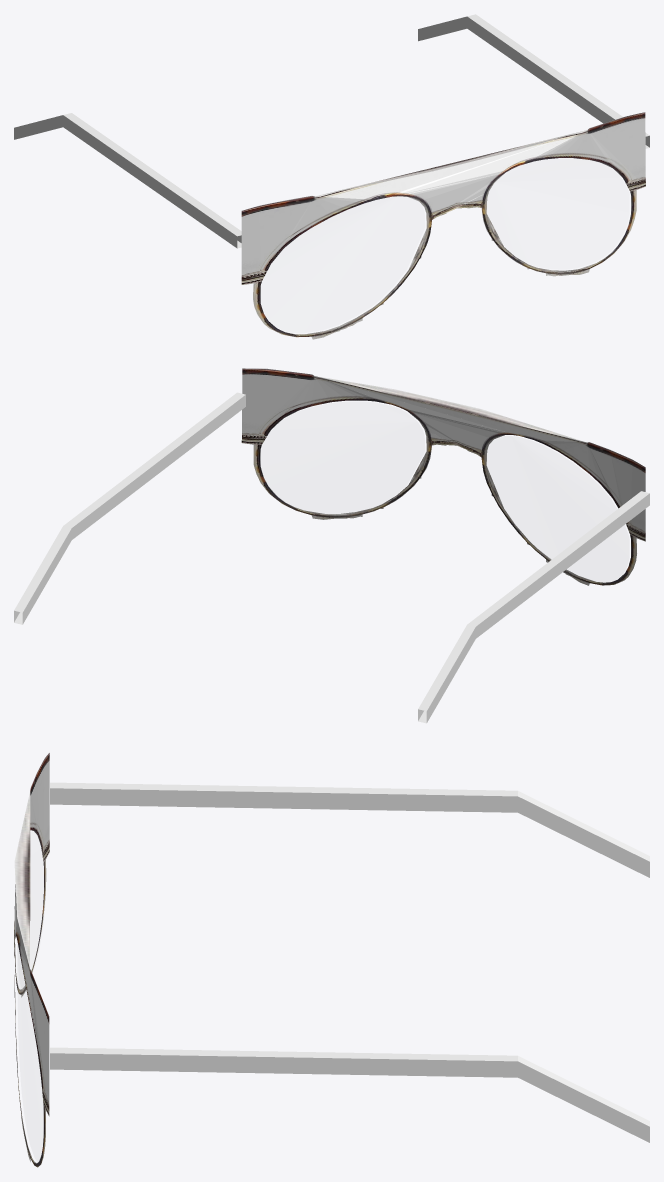
Rendered from trend-spotter-supreme-6_gold-tortoise.glb.
The picture shows the model from 3 angles, top to bottom: view 1: azimuth 30°, elevation 25°; view 2: azimuth 150°, elevation 25°; view 3: azimuth 270°, elevation 25°; orthographic projection. The views are drawn at different scales.
Visible parts, largest first — view 1: frame_front, temple_viewer_left, temple_viewer_right; view 2: frame_front, temple_viewer_right, temple_viewer_left; view 3: temple_viewer_left, temple_viewer_right, frame_front.
Part boxes in pixels (<box>): frame_front: <box>241,112,645,339</box>; temple_viewer_left: <box>14,113,241,248</box>; temple_viewer_right: <box>418,14,649,148</box>; frame_front: <box>241,368,645,585</box>; temple_viewer_right: <box>14,392,245,624</box>; temple_viewer_left: <box>418,491,649,723</box>; temple_viewer_left: <box>50,782,649,877</box>; temple_viewer_right: <box>50,1047,649,1142</box>; frame_front: <box>14,753,49,1167</box>.
Size of the model in its own units: 0.142 by 0.0476 by 0.141.
Materials: 3 (2 with a texture image).
